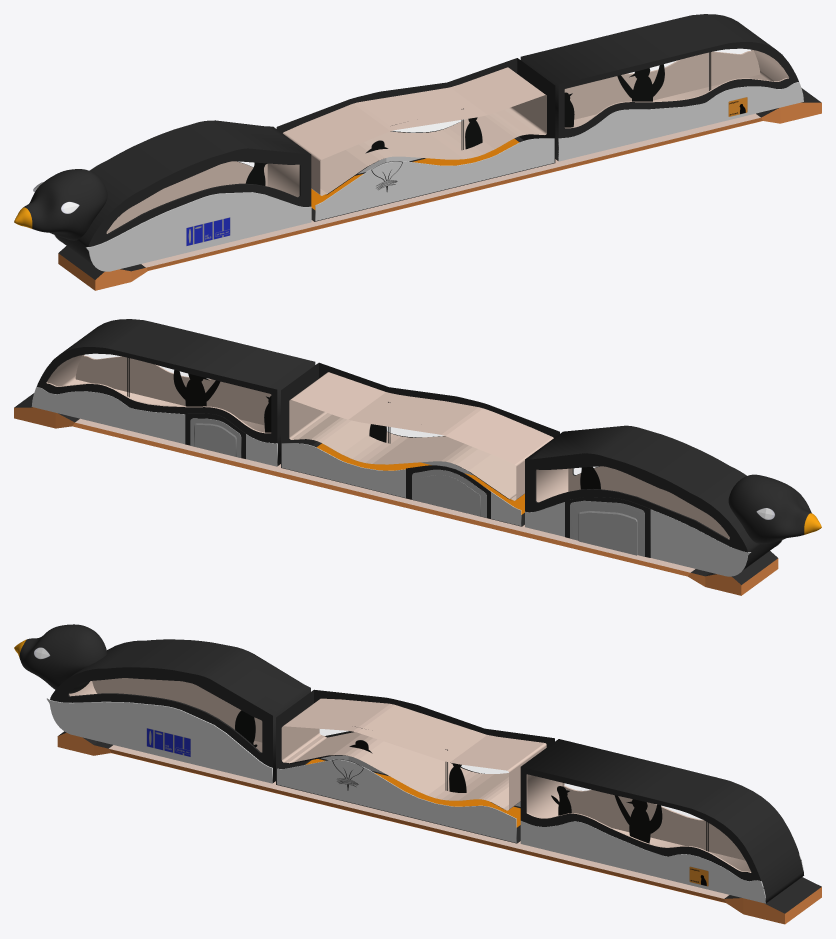
Rendered from train_test.glb.
3 views of the same model, one above another, from view 1: azimuth 30°, elevation 25°; view 2: azimuth 150°, elevation 25°; view 3: azimuth 330°, elevation 25° (orthographic).
Parts seen in each view (by area): view 1: car2, car3, car1, Cube, belly1, belly2, belly3, Sphere, penguinCAR3, Plane.001, sticker3, penguinCAR2; view 2: car2, car3, car1, Cube, belly3.001, belly1.001, Sphere, belly2.001, door1, door2, door3, penguinCAR3 (+4 smaller); view 3: car3, car2, car1, Cube, belly1, belly2, belly3, Sphere, penguinCAR3, Plane.001, sticker3, penguinCAR2.
Boxes of the visible parts, bbox=[...] form: car2: bbox=[276, 58, 555, 221]; car3: bbox=[520, 14, 798, 160]; car1: bbox=[55, 120, 311, 265]; Cube: bbox=[58, 88, 821, 290]; belly1: bbox=[86, 192, 311, 271]; belly2: bbox=[315, 138, 554, 220]; belly3: bbox=[558, 82, 803, 161]; Sphere: bbox=[14, 169, 107, 240]; penguinCAR3: bbox=[564, 52, 710, 127]; Plane.001: bbox=[311, 138, 519, 209]; sticker3: bbox=[186, 217, 230, 246]; penguinCAR2: bbox=[365, 108, 482, 153]; car2: bbox=[281, 362, 559, 526]; car3: bbox=[36, 319, 315, 465]; car1: bbox=[525, 425, 781, 570]; Cube: bbox=[14, 393, 778, 595]; belly3.001: bbox=[31, 387, 277, 466]; belly1.001: bbox=[525, 502, 750, 576]; Sphere: bbox=[728, 474, 821, 544]; belly2.001: bbox=[281, 443, 521, 525]; door1: bbox=[570, 500, 644, 556]; door2: bbox=[412, 469, 486, 517]; door3: bbox=[190, 418, 241, 457]; penguinCAR3: bbox=[127, 357, 271, 432]; car3: bbox=[520, 739, 803, 903]; car2: bbox=[276, 689, 554, 843]; car1: bbox=[50, 639, 310, 782]; Cube: bbox=[57, 731, 821, 924]; belly1: bbox=[47, 698, 272, 783]; belly2: bbox=[277, 759, 516, 842]; belly3: bbox=[520, 821, 765, 903]; Sphere: bbox=[14, 624, 107, 693]; penguinCAR3: bbox=[551, 786, 708, 851]; Plane.001: bbox=[305, 759, 520, 827]; sticker3: bbox=[146, 728, 190, 756]; penguinCAR2: bbox=[349, 740, 466, 792].
Bounding box in the file's own units: 43.9 × 5.67 × 3.8.
16 materials, 7 textured.
